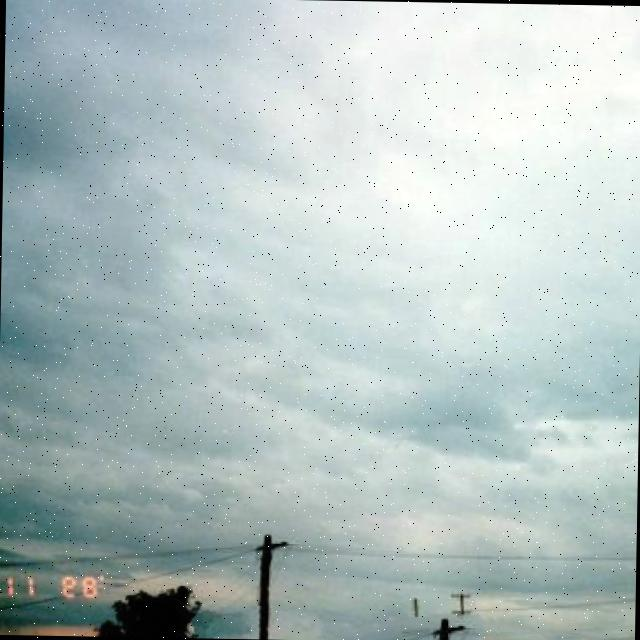Ns: (1, 17, 640, 475)
